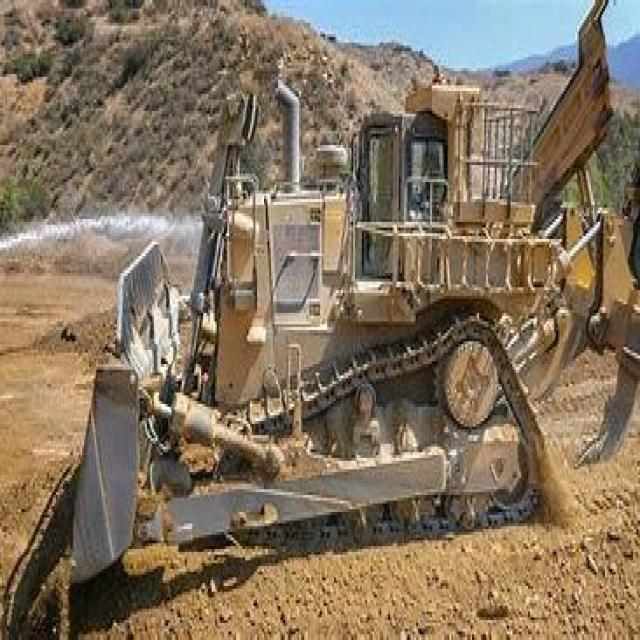buldozerpayloadergrader: (61, 34, 638, 597)
